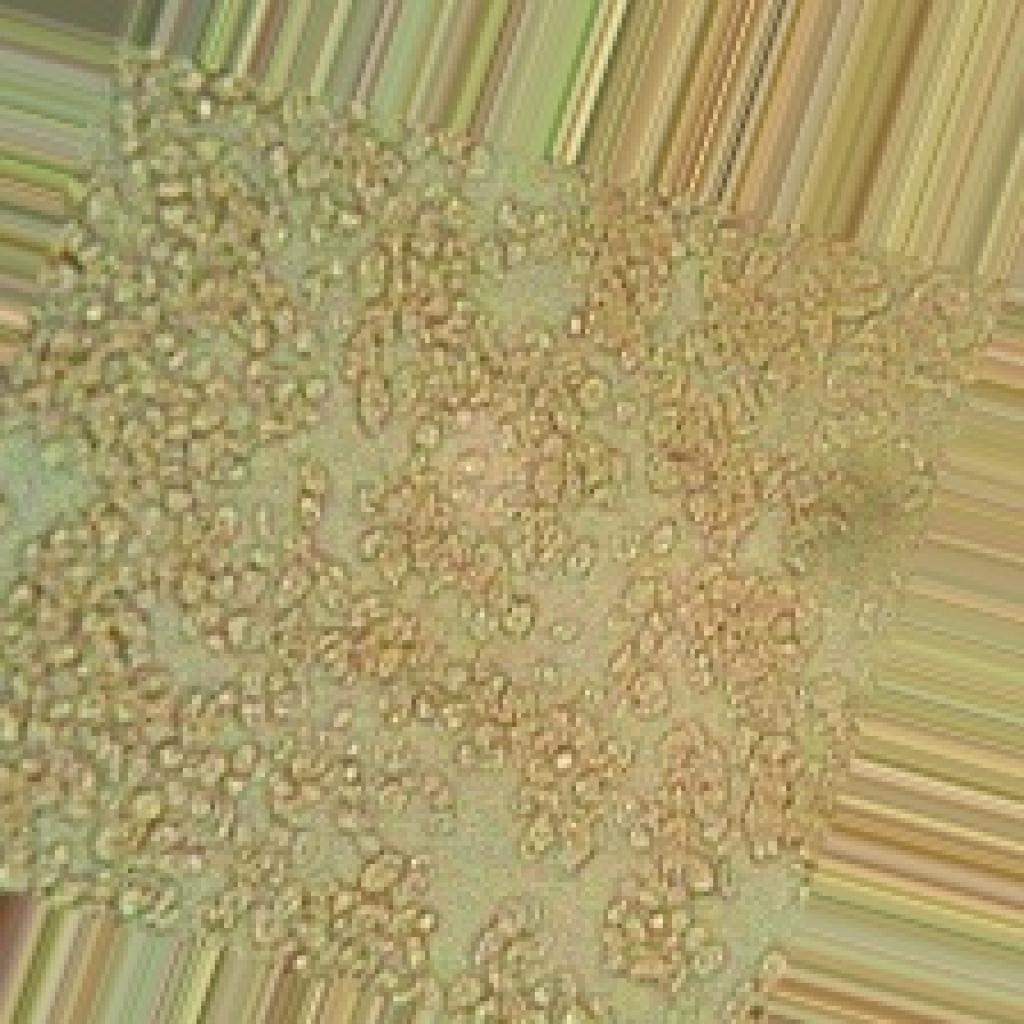Yeast: (0, 41, 1019, 1019)
